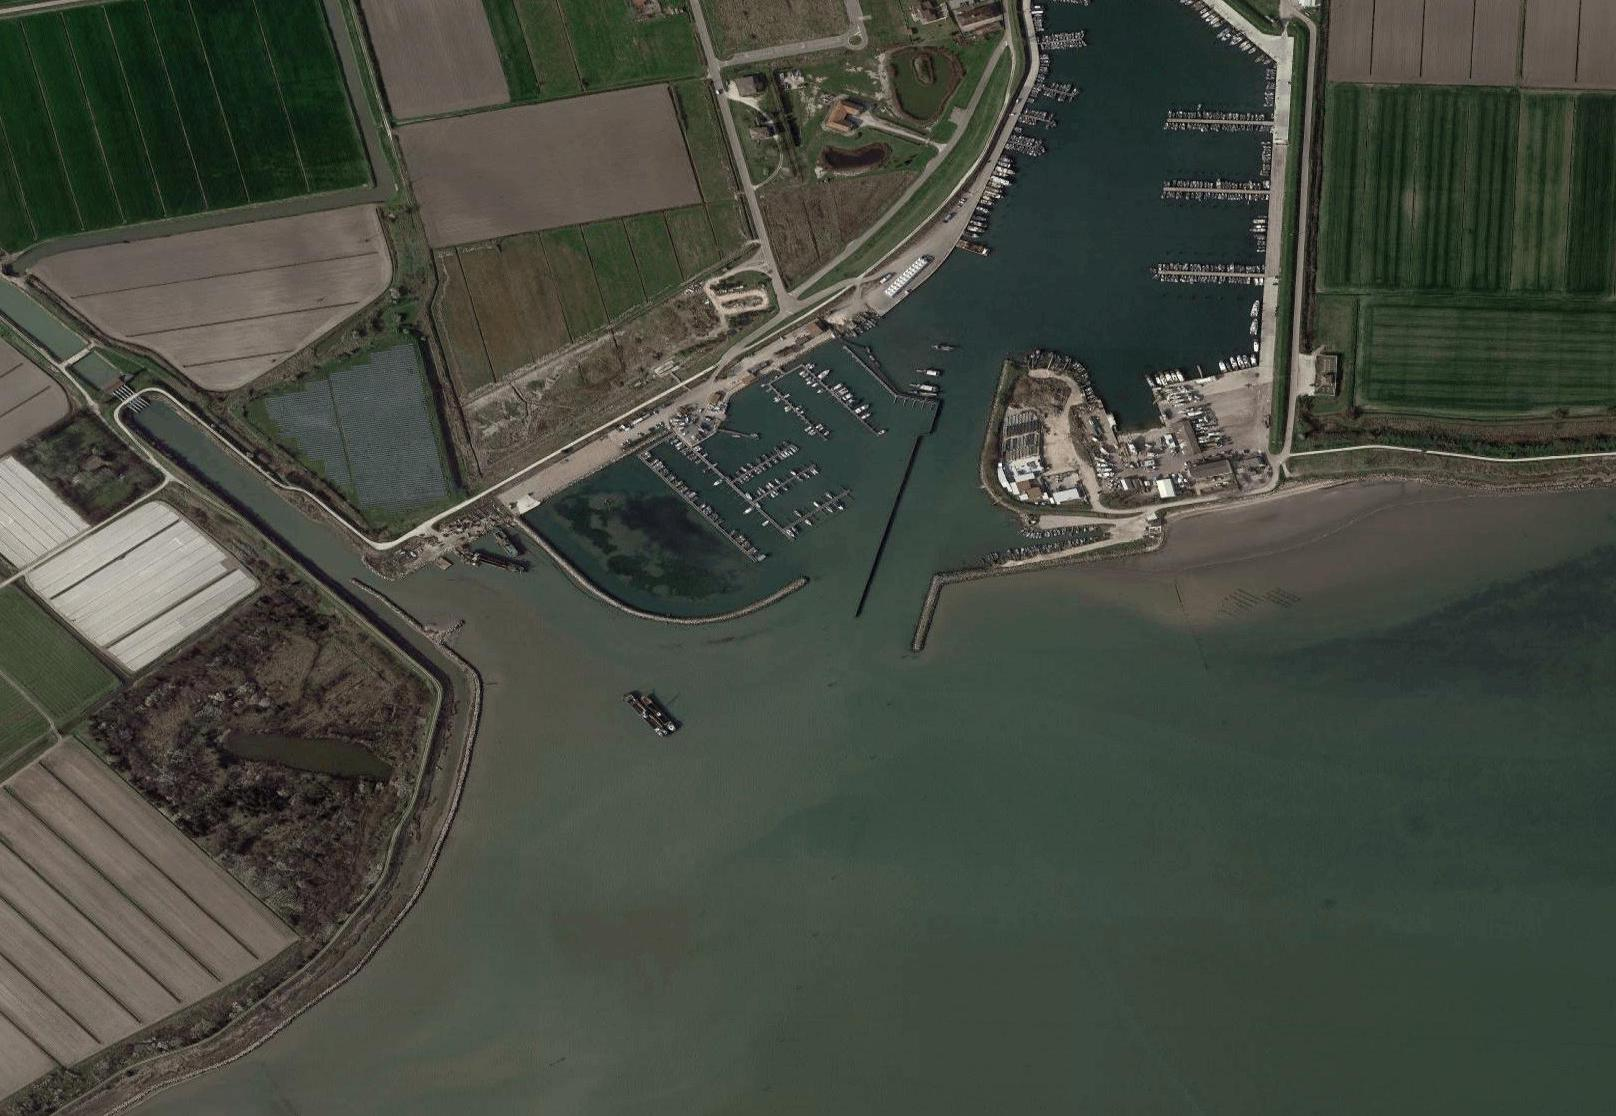harbor: (646, 1, 1309, 692)
